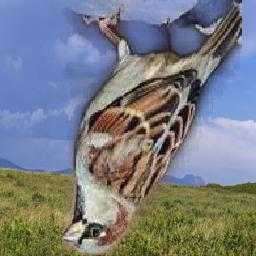Sparrow: (62, 1, 242, 256)
